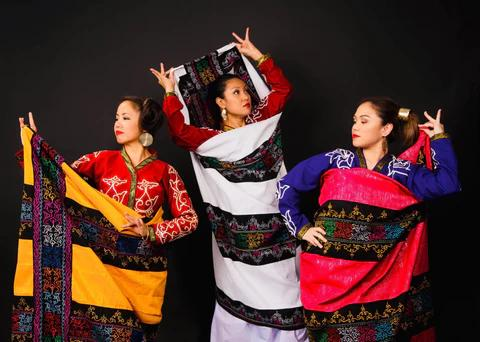malong: (166, 31, 302, 342), (0, 130, 180, 342), (299, 160, 431, 342)
